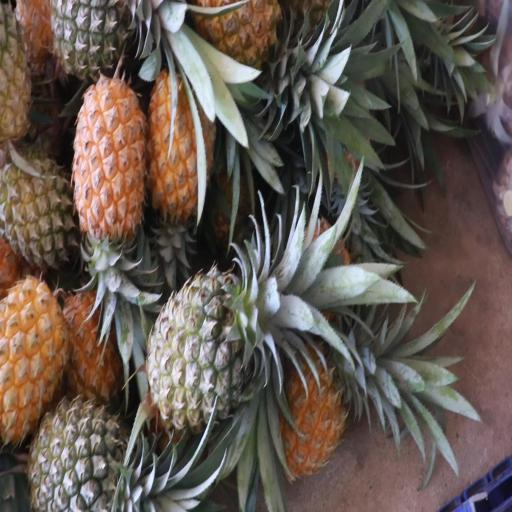Pineapple - v8 v1: (72, 62, 144, 275), (145, 60, 216, 224), (0, 276, 65, 450)
